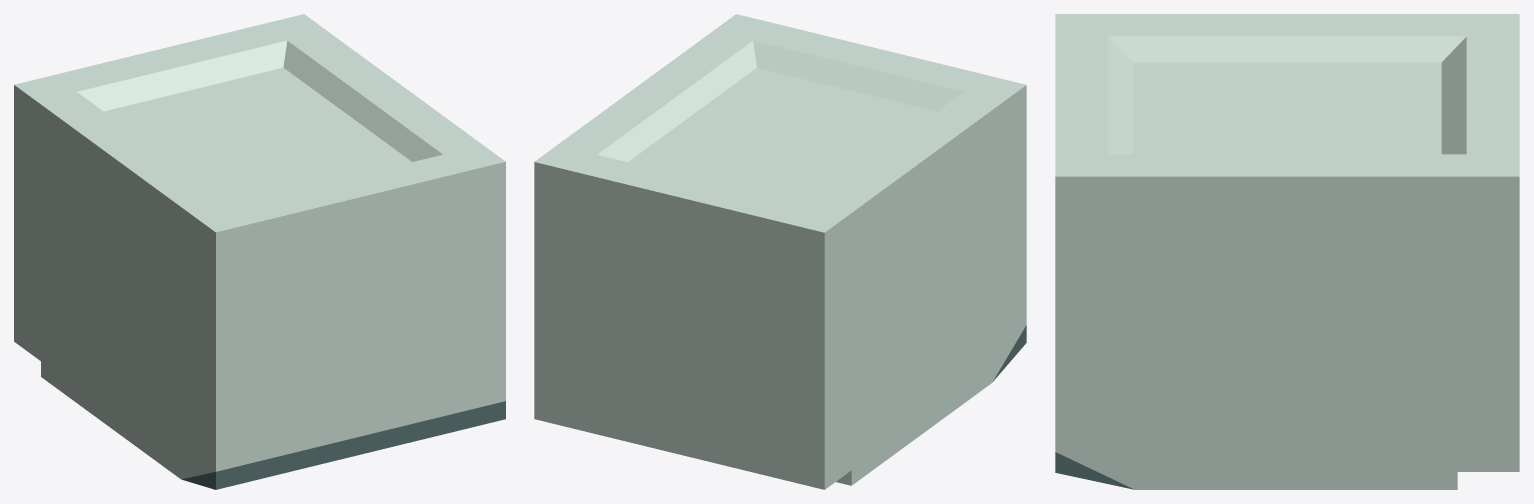
Rendered from washer.obj.
The picture shows the model from 3 angles, left to right: view 1: azimuth 30°, elevation 25°; view 2: azimuth 150°, elevation 25°; view 3: azimuth 270°, elevation 25°; orthographic projection. The views are drawn at different scales.
Visible parts, largest first — view 1: washer; view 2: washer; view 3: washer.
Boxes of the visible parts, x1,y1,x2,y2 form: washer: (14, 14, 505, 489); washer: (534, 14, 1026, 489); washer: (1055, 14, 1519, 489).
Bounding box in the file's own units: 29.87 × 29.87 × 36.
